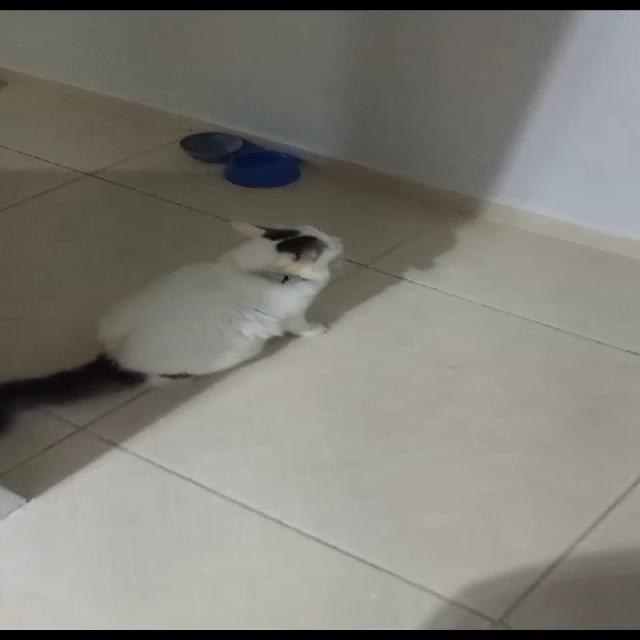Simba: (16, 180, 366, 535)
